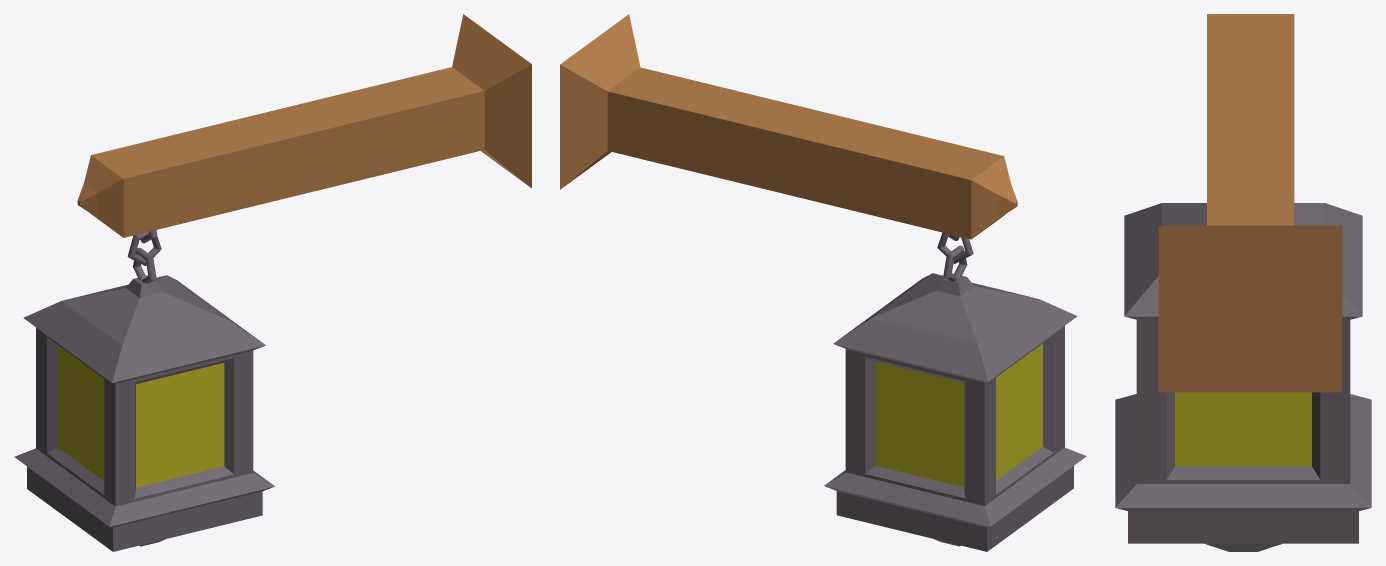
Rendered from lantern.fbx.
3 views of the same model, side by side, from view 1: azimuth 30°, elevation 25°; view 2: azimuth 150°, elevation 25°; view 3: azimuth 270°, elevation 25° (orthographic). The views are drawn at different scales.
Visible parts, largest first — view 1: Cube.001, Cube, Cube.002; view 2: Cube.001, Cube, Cube.002; view 3: Cube.001, Cube, Cube.002.
Part boxes in pixels (x1,y1,x2,y2): Cube.001: [77, 14, 531, 237]; Cube: [14, 275, 274, 551]; Cube.002: [58, 345, 224, 487]; Cube.001: [560, 14, 1017, 239]; Cube: [824, 273, 1086, 551]; Cube.002: [875, 343, 1042, 486]; Cube.001: [1158, 14, 1342, 392]; Cube: [1115, 203, 1371, 551]; Cube.002: [1175, 392, 1311, 466].
Size of the model in its own units: 122 by 110 by 46.1.
